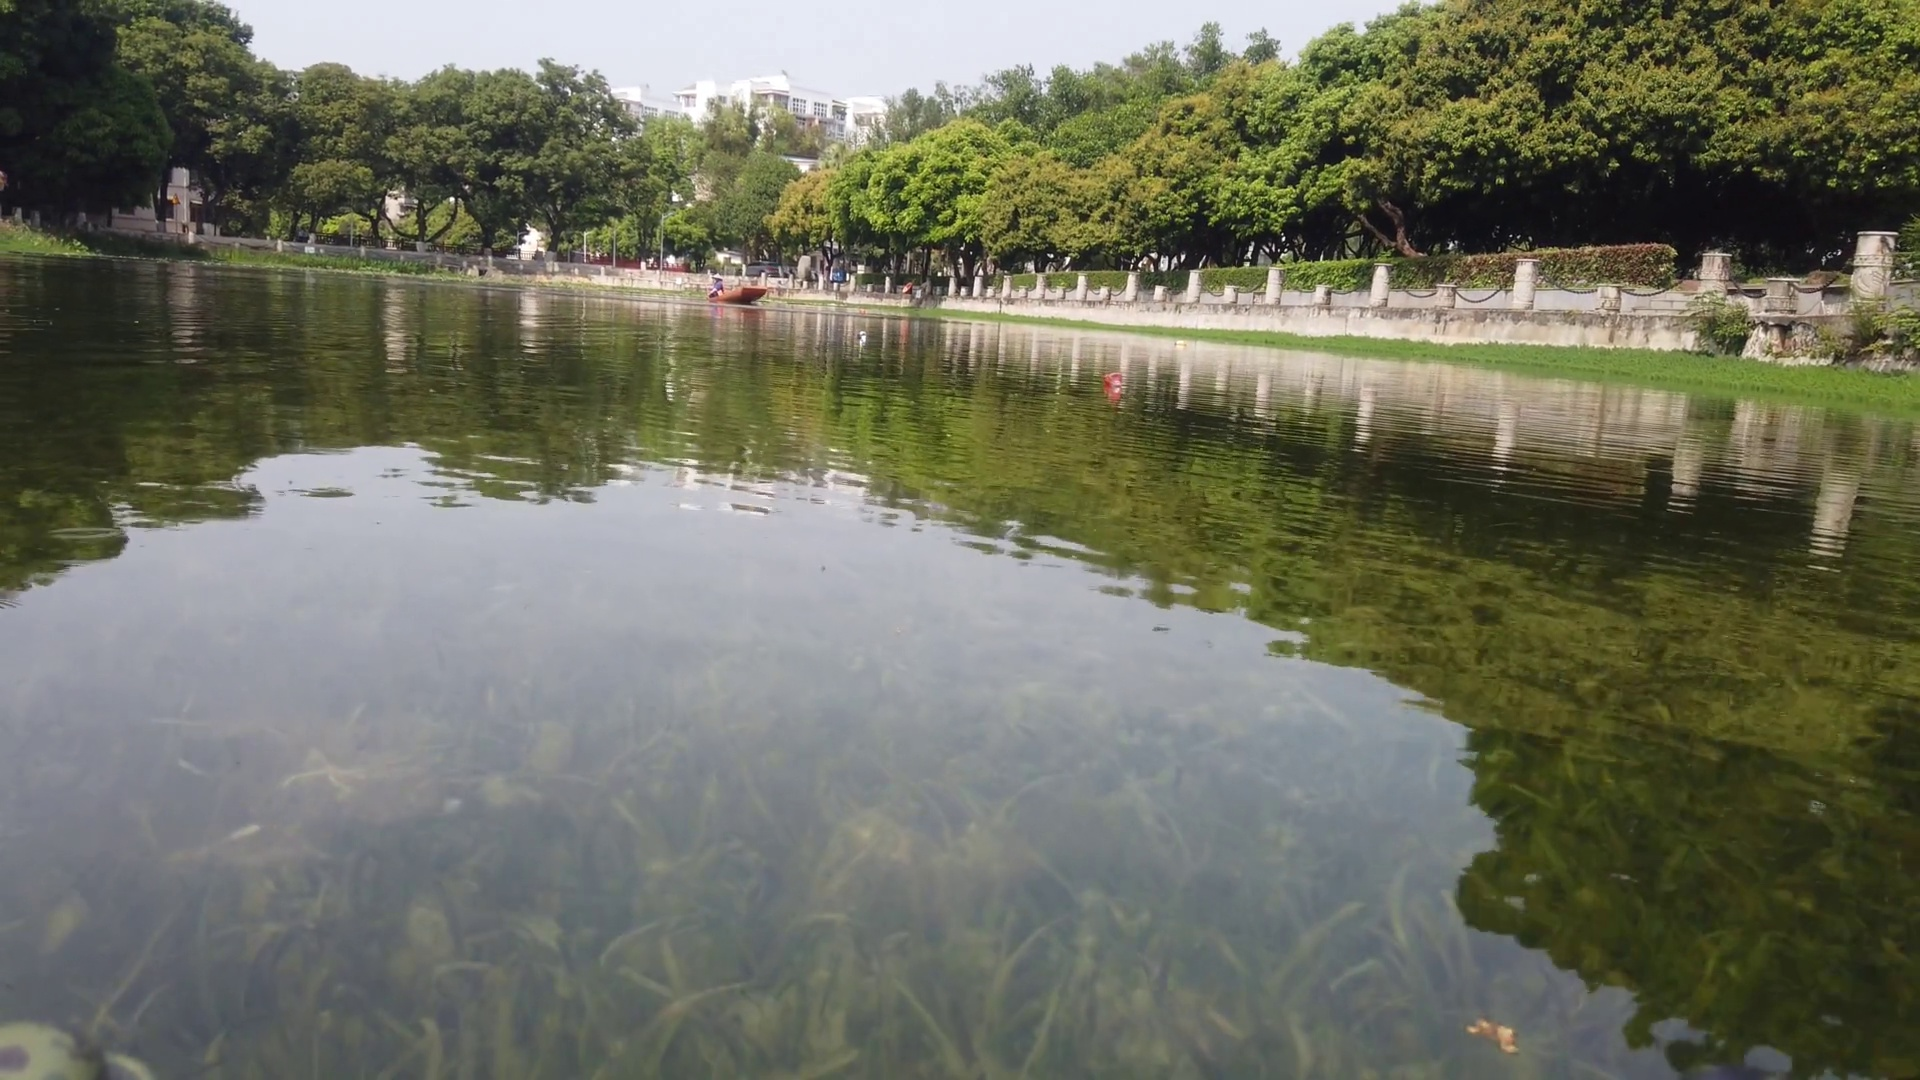bottle: (1100, 371, 1124, 388), (858, 328, 866, 338), (1176, 339, 1183, 344)
